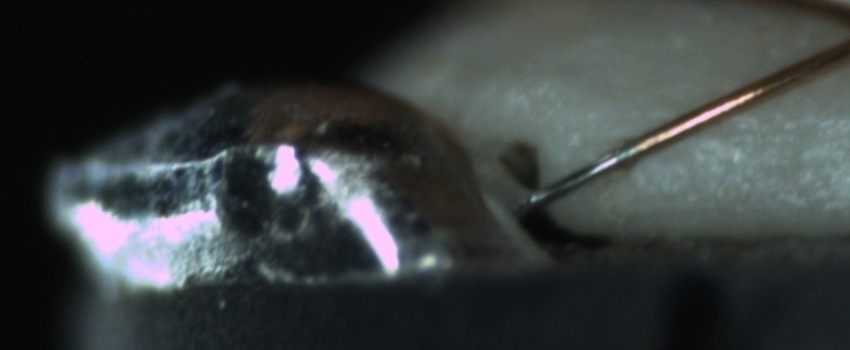DL: (697, 100, 849, 160)
TS: (525, 142, 642, 210)
